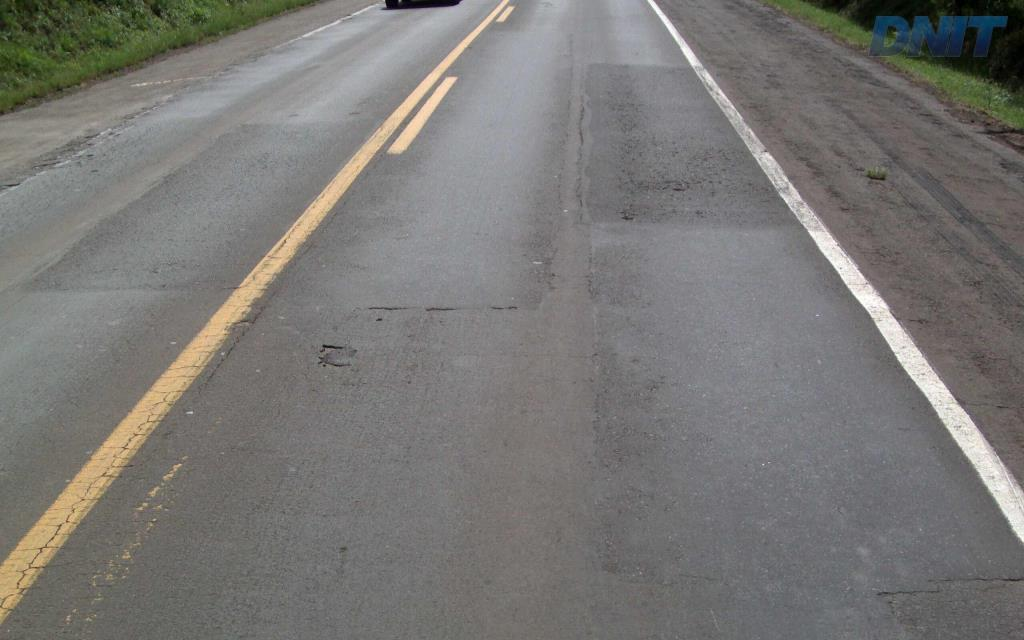pothole: (315, 336, 348, 356)
